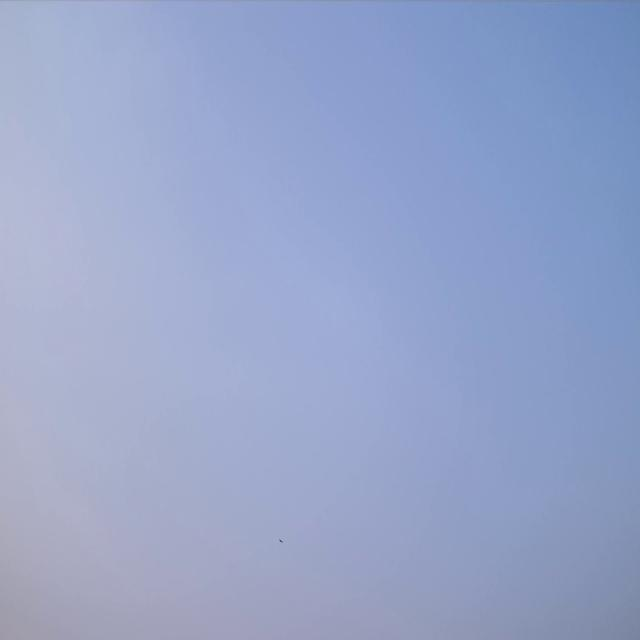UAV: (279, 538, 283, 543)
